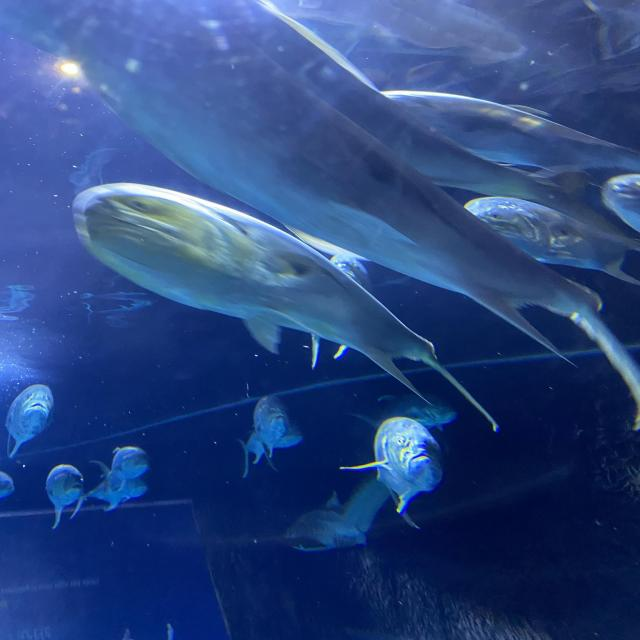fish: (96, 63, 640, 433), (73, 183, 498, 432), (375, 52, 640, 193), (463, 195, 640, 287), (338, 416, 441, 528), (5, 384, 52, 457), (239, 424, 300, 476), (374, 395, 456, 426), (87, 476, 146, 515), (48, 465, 83, 526), (604, 174, 640, 231), (94, 447, 148, 485), (254, 394, 287, 454), (0, 472, 16, 501)
shark: (284, 492, 366, 554)
